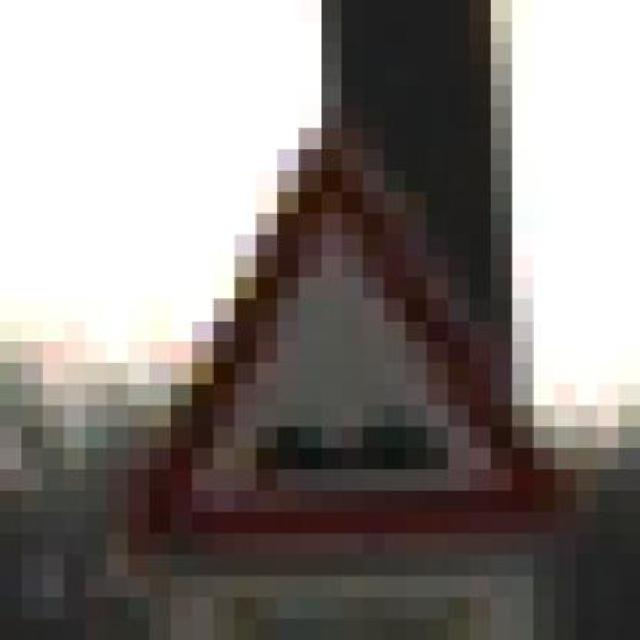Uneven Road: (107, 129, 576, 576)
